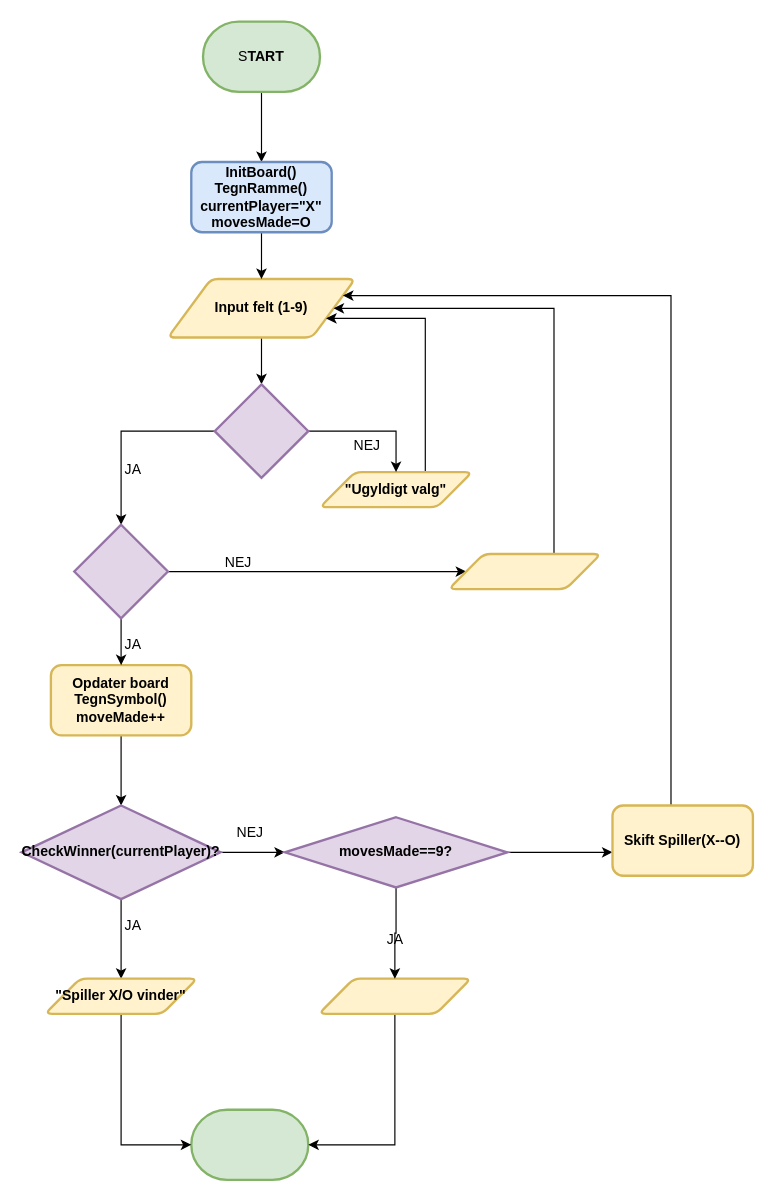
This 773x1200 diagram has some shape labels left out. Each missing label, with the centre of its shape:
"'Felt Optaget'" goes at point 524,571.
"'Uafgjort'" goes at point 394,995.
"Er felt tomt?" goes at point 120,571.
"Er input gyldigt? (1-9)" goes at point 261,431.
"SLUT" goes at point 249,1144.
